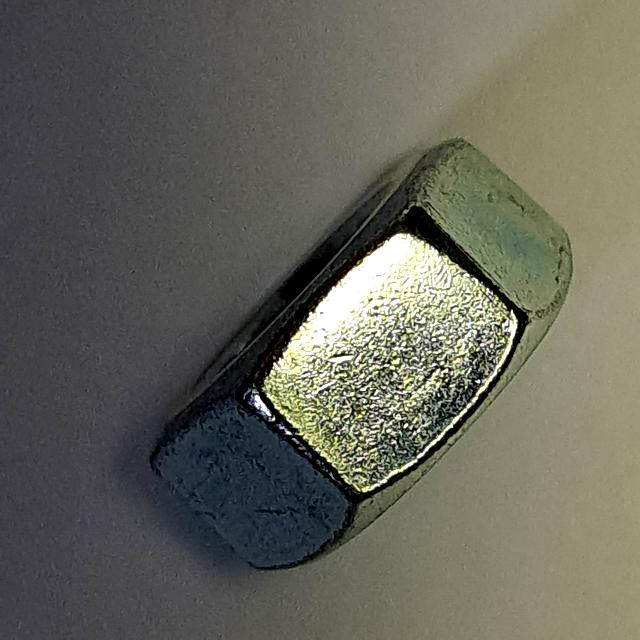Side_Excellent: (134, 130, 583, 581)
